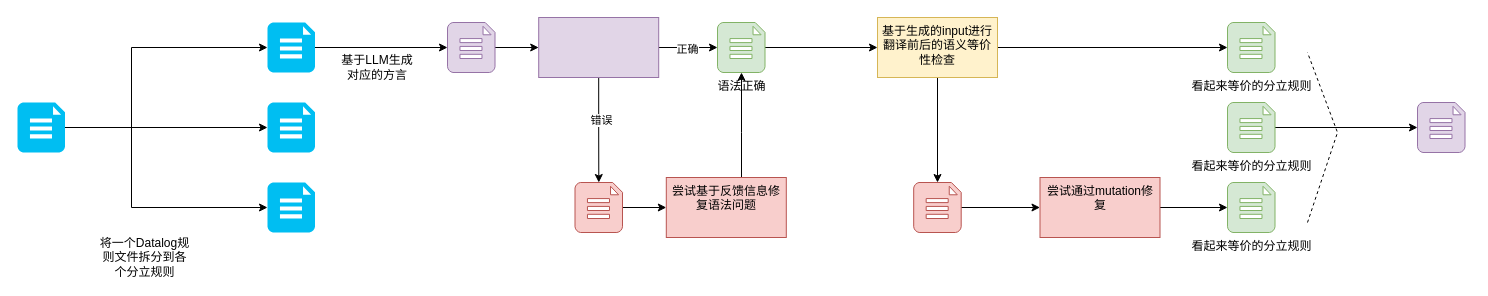
Image size: 1488x296. Some labels were removed from this diagram. The shapes that lost their labels are listed below. From the top down, each one's box as (x1, y1, x2, y2) in pixels, then its label:
(538, 16, 659, 78): 基于parser的语法检查
(1416, 102, 1465, 152): 转换后规则
(913, 182, 961, 232): 规则不等价
